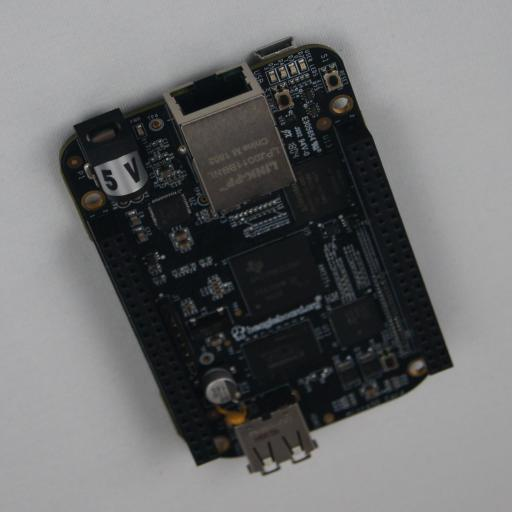Beaglebone Black: (59, 37, 453, 475)
